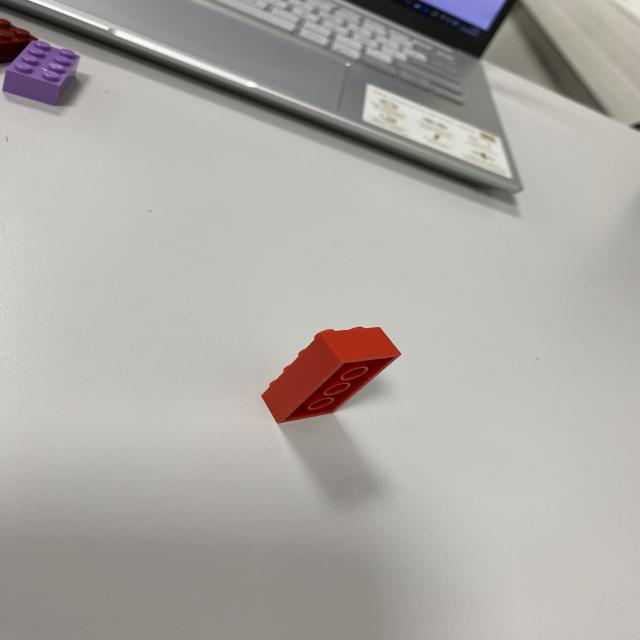C4x2x1: (284, 325, 402, 423), (259, 332, 341, 423)
